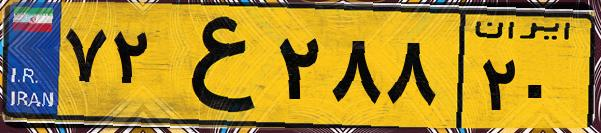0: (525, 38, 570, 115)
2: (270, 28, 330, 110), (475, 38, 525, 113), (110, 28, 158, 98)
7: (57, 26, 110, 100)
8: (385, 28, 445, 110), (330, 28, 385, 110)
ع: (158, 12, 270, 120)
